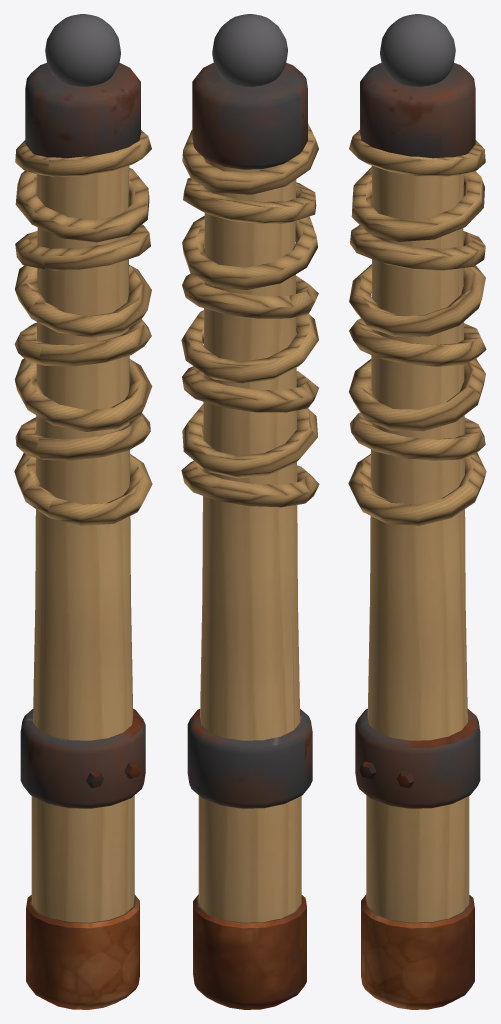
The model's file is Handle_Short.glb.
The picture shows the model from 3 angles, left to right: view 1: azimuth 30°, elevation 25°; view 2: azimuth 150°, elevation 25°; view 3: azimuth 330°, elevation 25°; orthographic projection.
Visible parts, largest first — view 1: Handle_Short; view 2: Handle_Short; view 3: Handle_Short.
Part boxes in pixels (x1,y1,x2,y2): Handle_Short: [14, 14, 152, 1009]; Handle_Short: [181, 14, 319, 1009]; Handle_Short: [348, 14, 486, 1009].
Size of the model in its own units: 0.0764 by 0.593 by 0.0749.
Materials: 5 (4 with a texture image).
